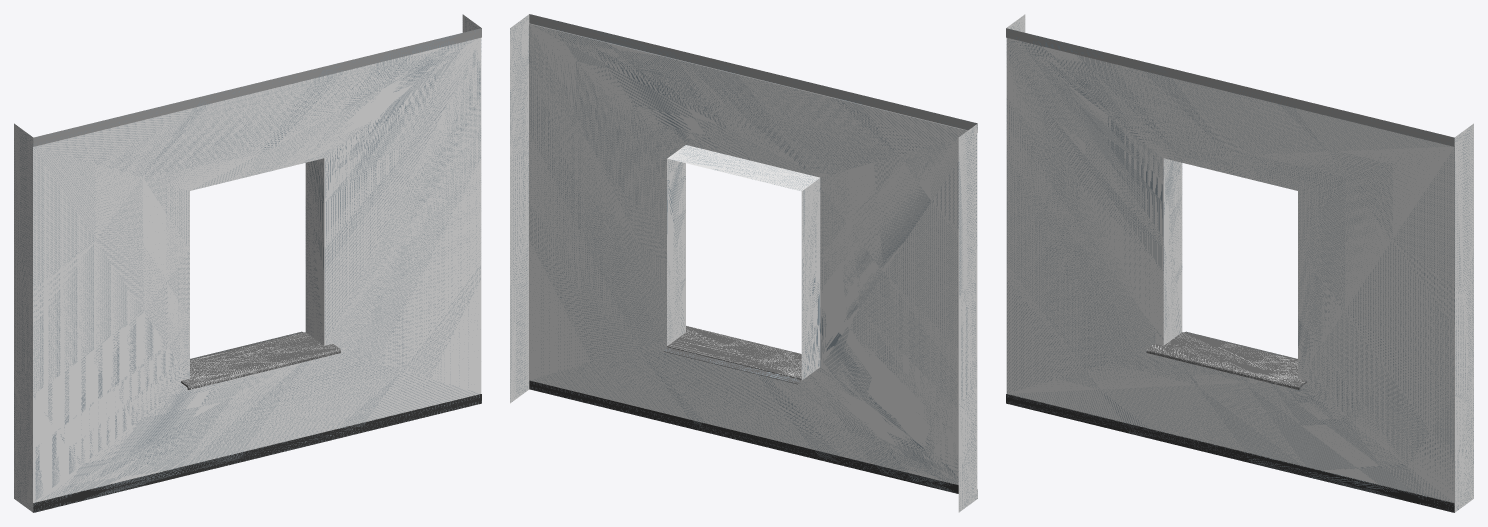
File: WindowBlock_os_plinth_[500x400]_150x200x[100].dae
3 renders of one model, left to right at view 1: azimuth 30°, elevation 25°; view 2: azimuth 150°, elevation 25°; view 3: azimuth 330°, elevation 25°, orthographic.
Parts seen in each view (by area): view 1: group_2 (×4), group_1; view 2: group_2 (×4), group_1 (×2); view 3: group_2 (×4), group_1.
Part boxes in pixels (bbox=[...]): group_2 (×4): bbox=[14, 14, 481, 512]; group_1: bbox=[181, 332, 340, 389]; group_2 (×4): bbox=[510, 14, 977, 512]; group_1 (×2): bbox=[663, 326, 801, 384]; group_2 (×4): bbox=[1006, 14, 1473, 512]; group_1: bbox=[1146, 332, 1306, 389].
Size of the model in its own units: 197 by 23.03 by 157.
